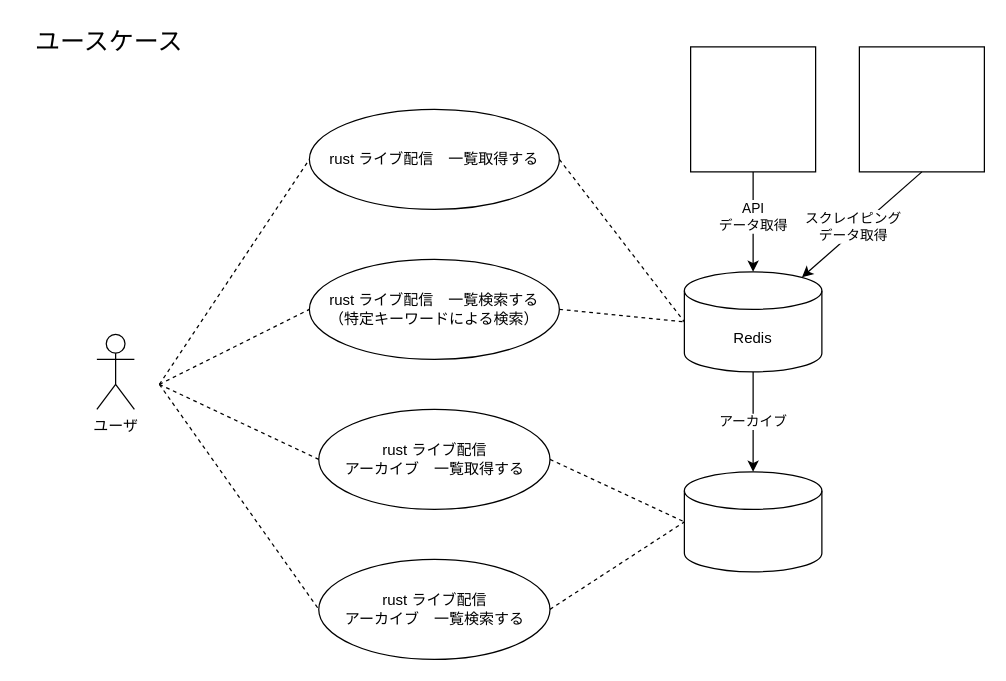
Some shapes in this 1006 by 681 pixel diagram are drawn without their labels. Each missing label, with the centre of its shape:
"Postgresql" belongs at (x=752, y=521).
"動画配信API" belongs at (x=752, y=109).
"動画配信サイト" belongs at (x=921, y=109).
